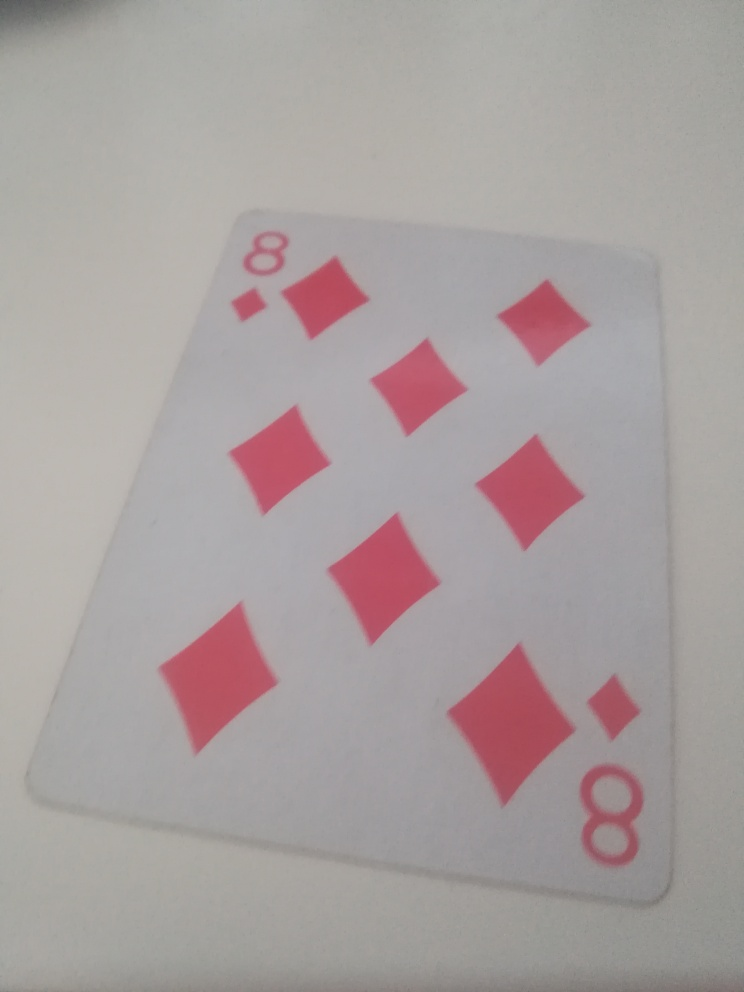8D: (228, 224, 293, 331)
